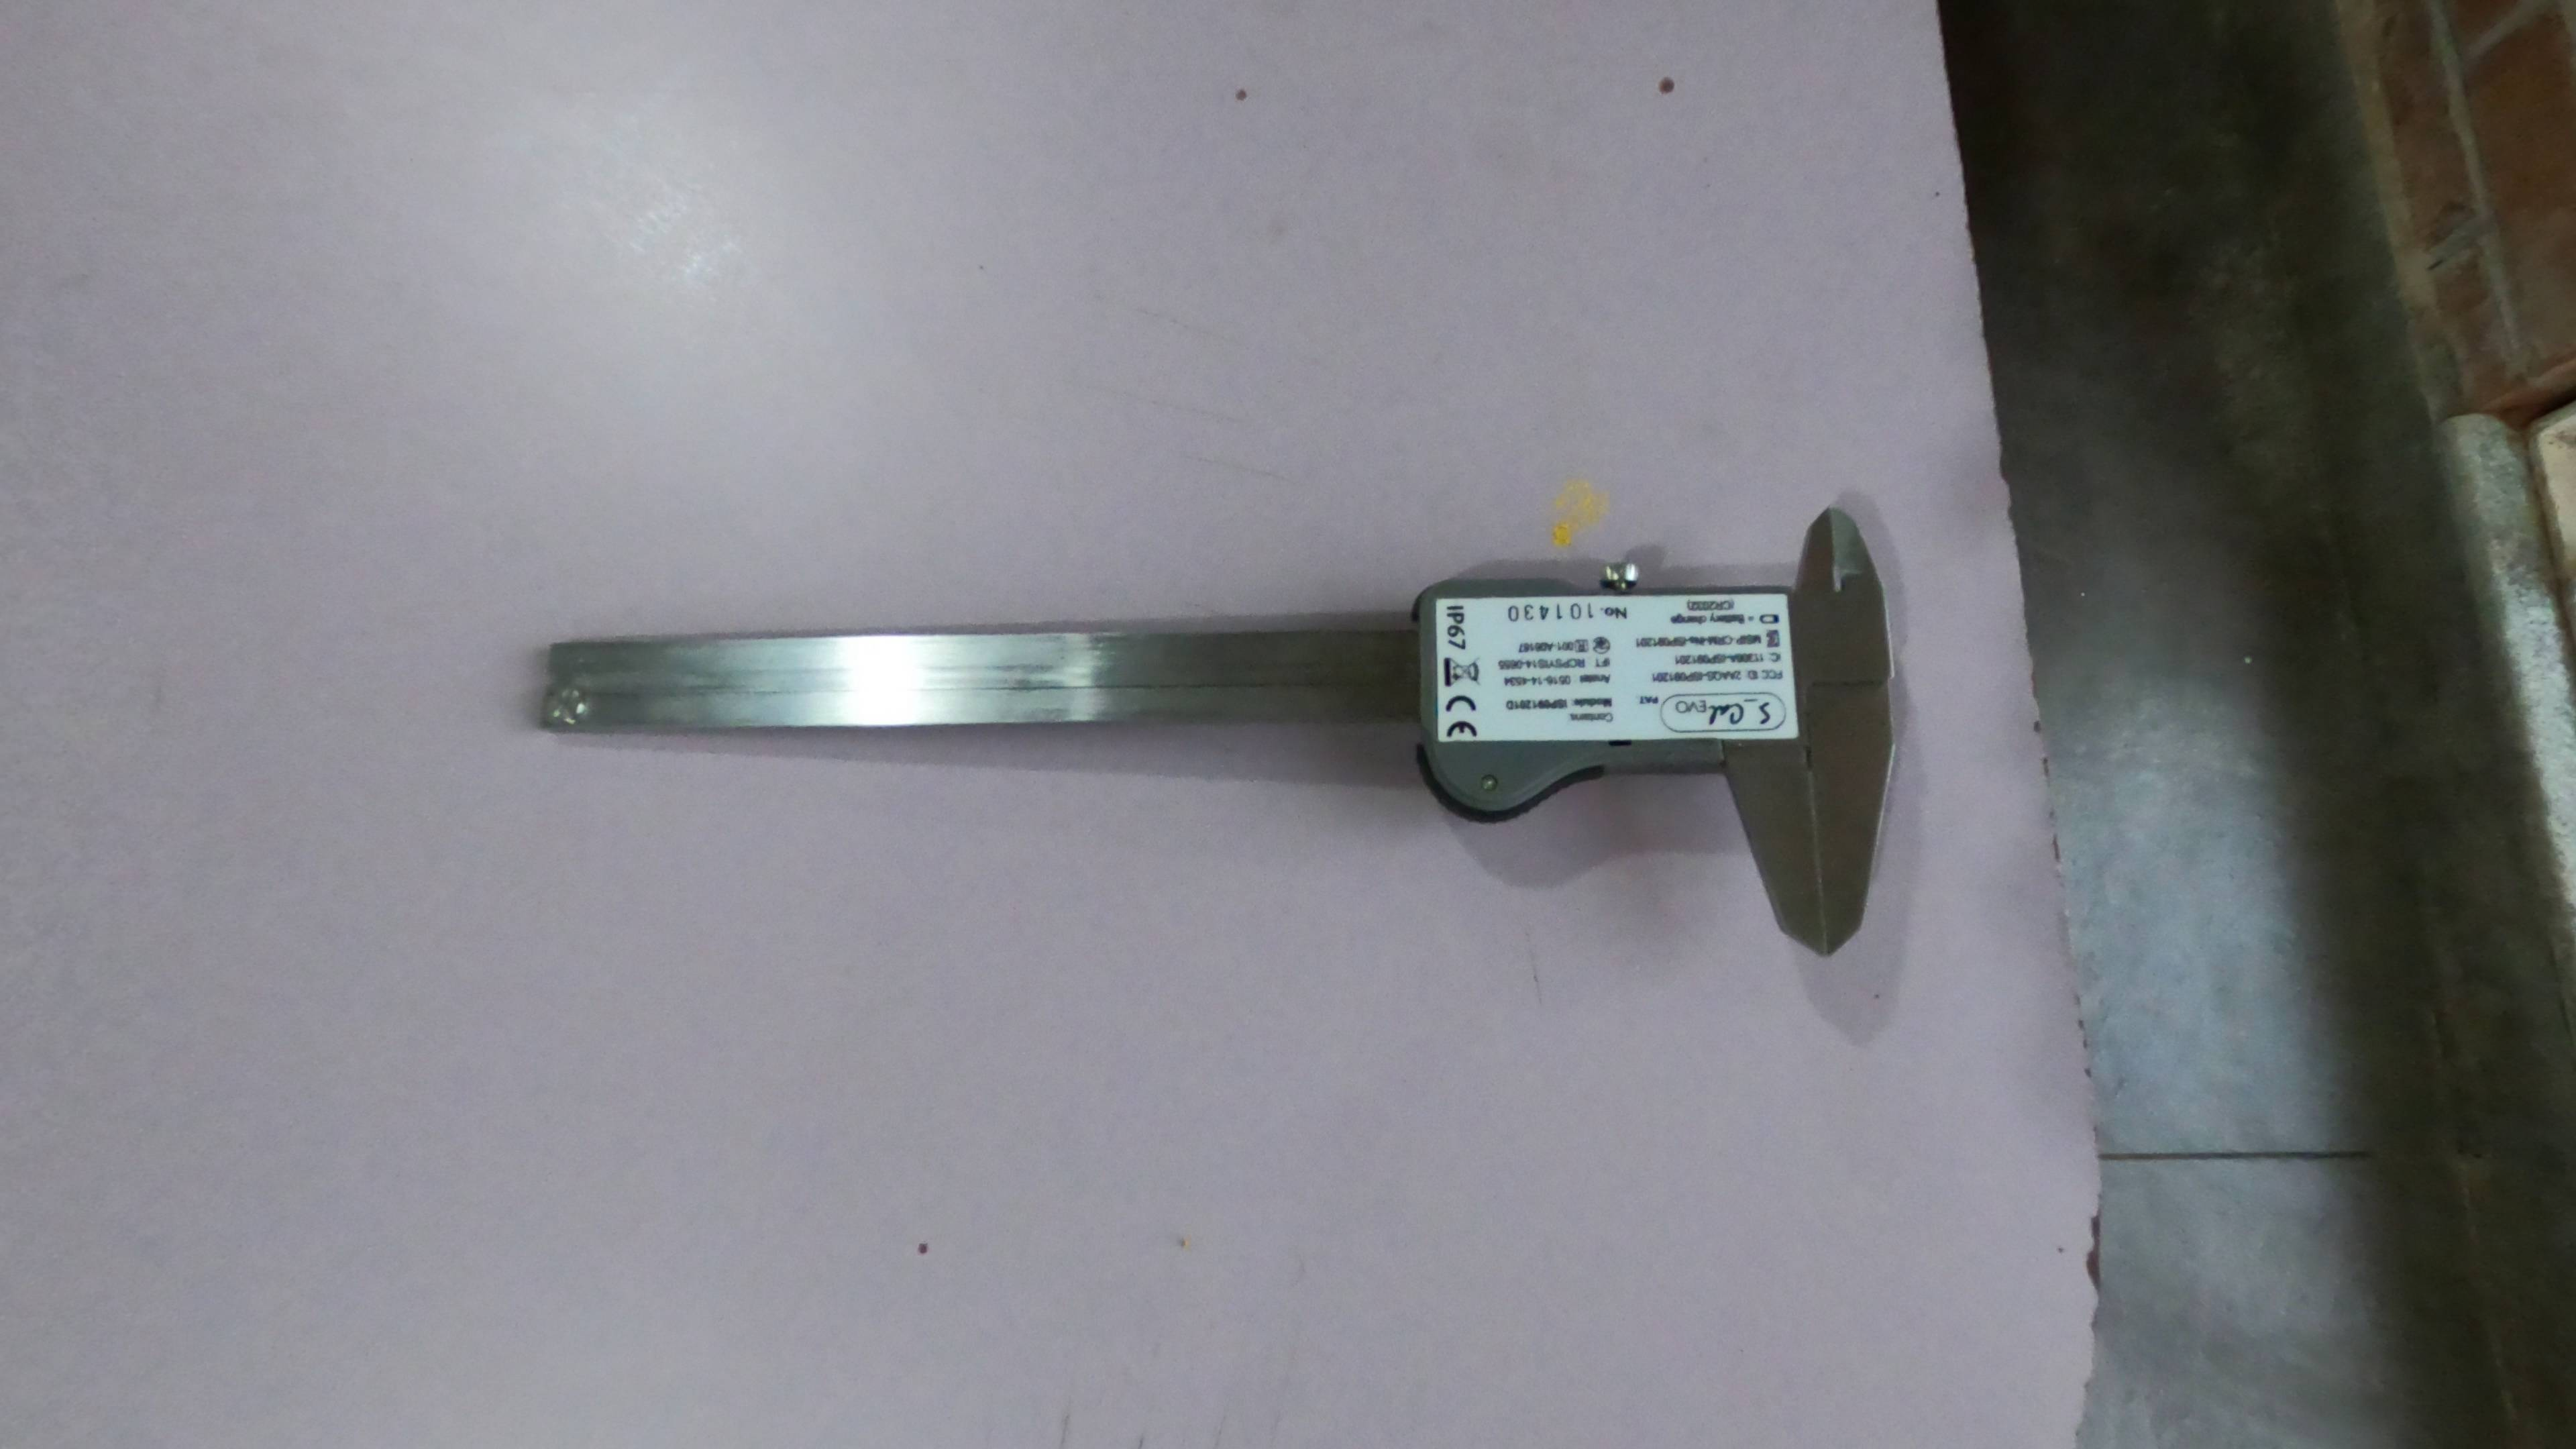vernier_caliper: (506, 506, 1888, 952)
